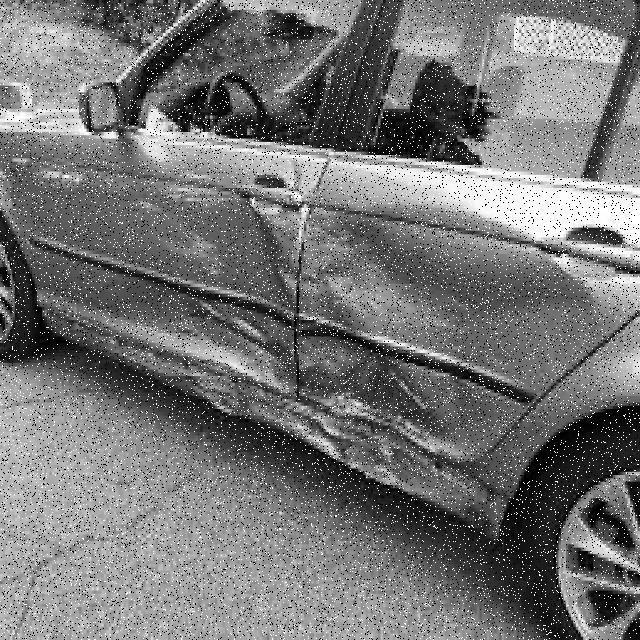Runningboard-Damage: (283, 406, 448, 488), (109, 354, 267, 423)
doorouter-dent: (301, 163, 568, 400), (89, 148, 299, 352)
